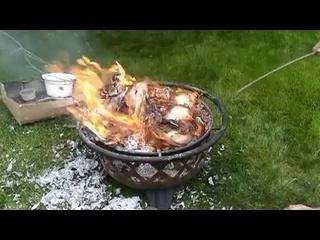Fire: (74, 56, 190, 135)
